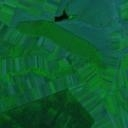alloviz: (53, 8, 70, 22)
